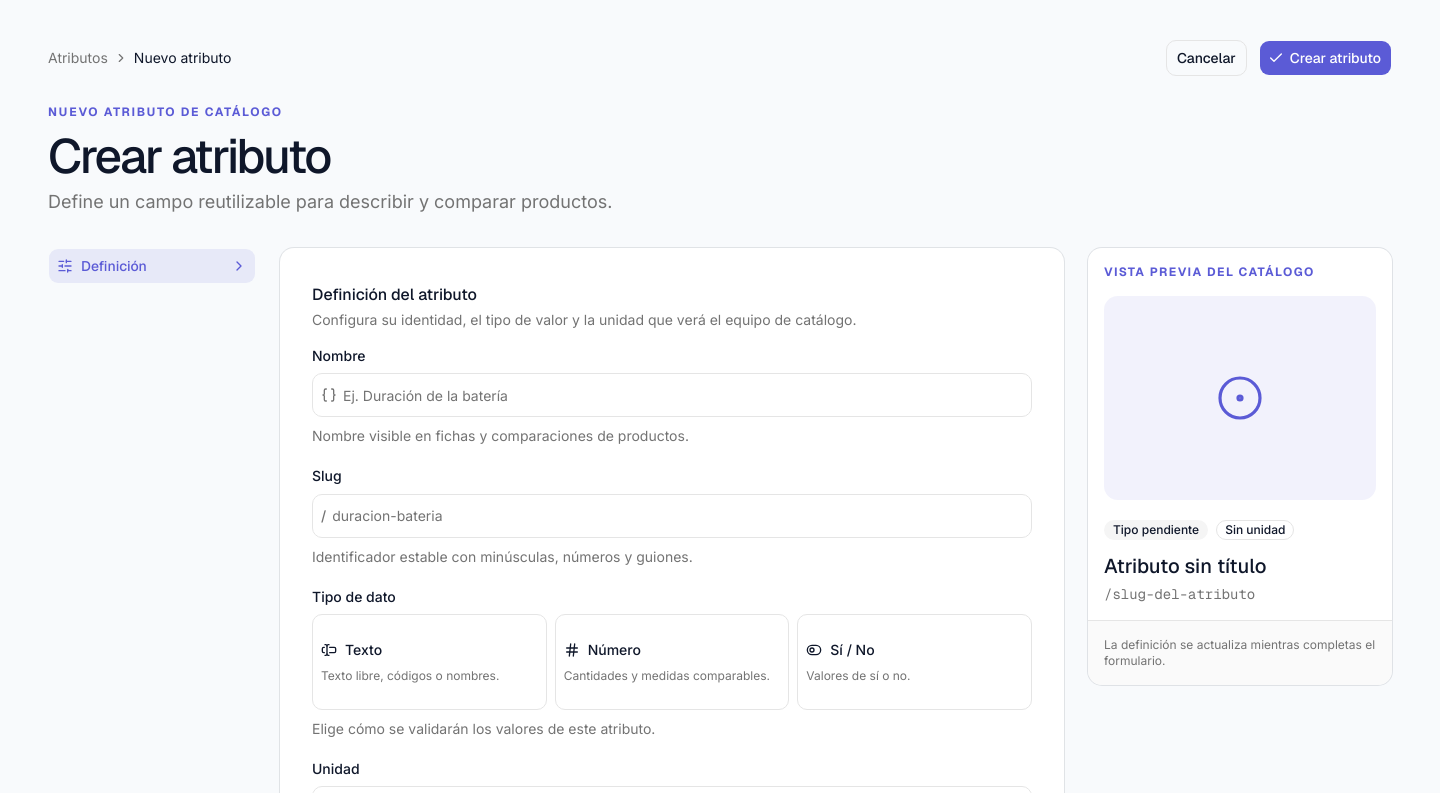
Test: AttributeForm › shows a recoverable error and preserves create values when the action rejects
Type "Peso" into the field labelled "Nombre" at {"x": 684, "y": 395}, box left=337, top=379, right=1031, bottom=411
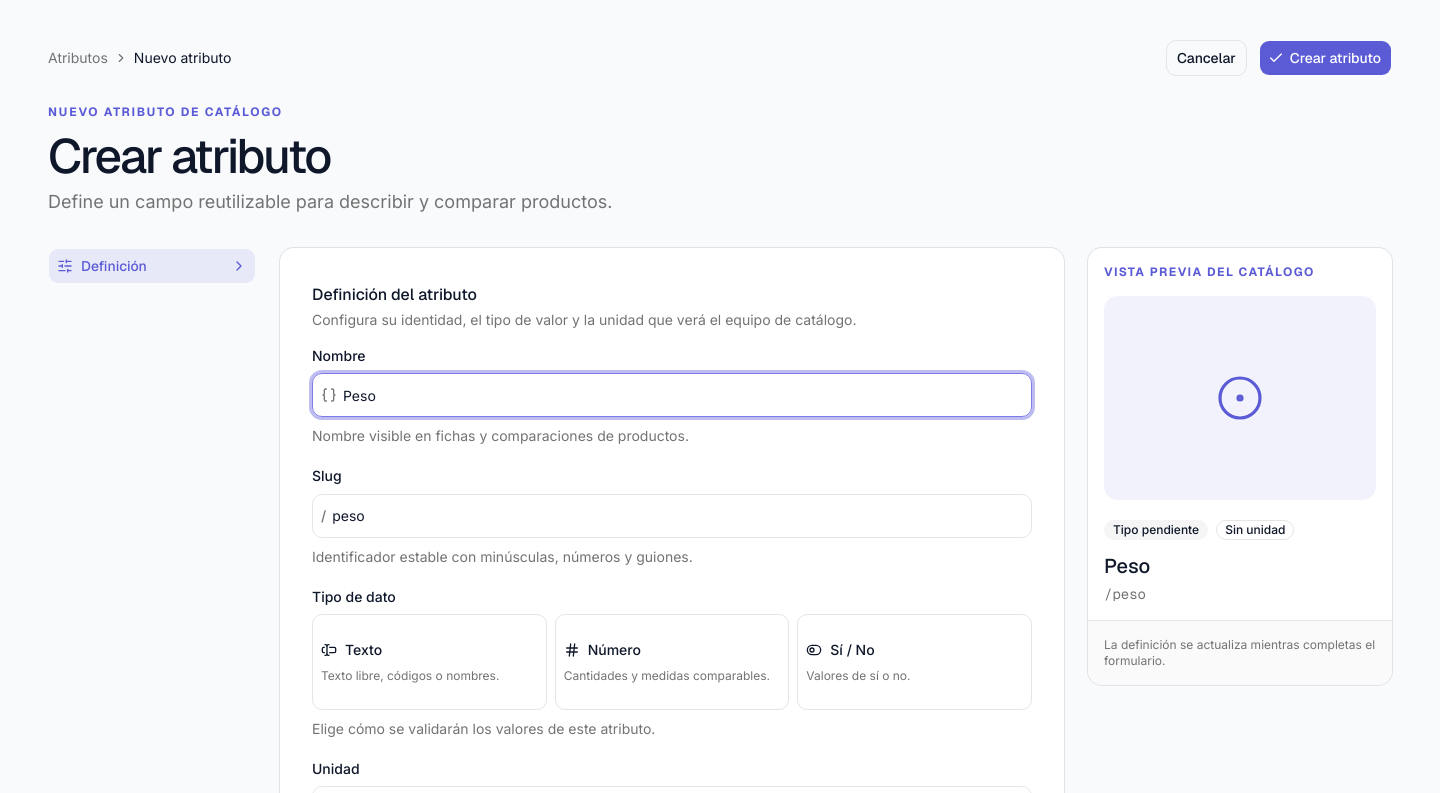
Click the button "Número Cantidades y medidas comparables." at {"x": 672, "y": 662}, box left=555, top=614, right=789, bottom=710
(page scrolled)
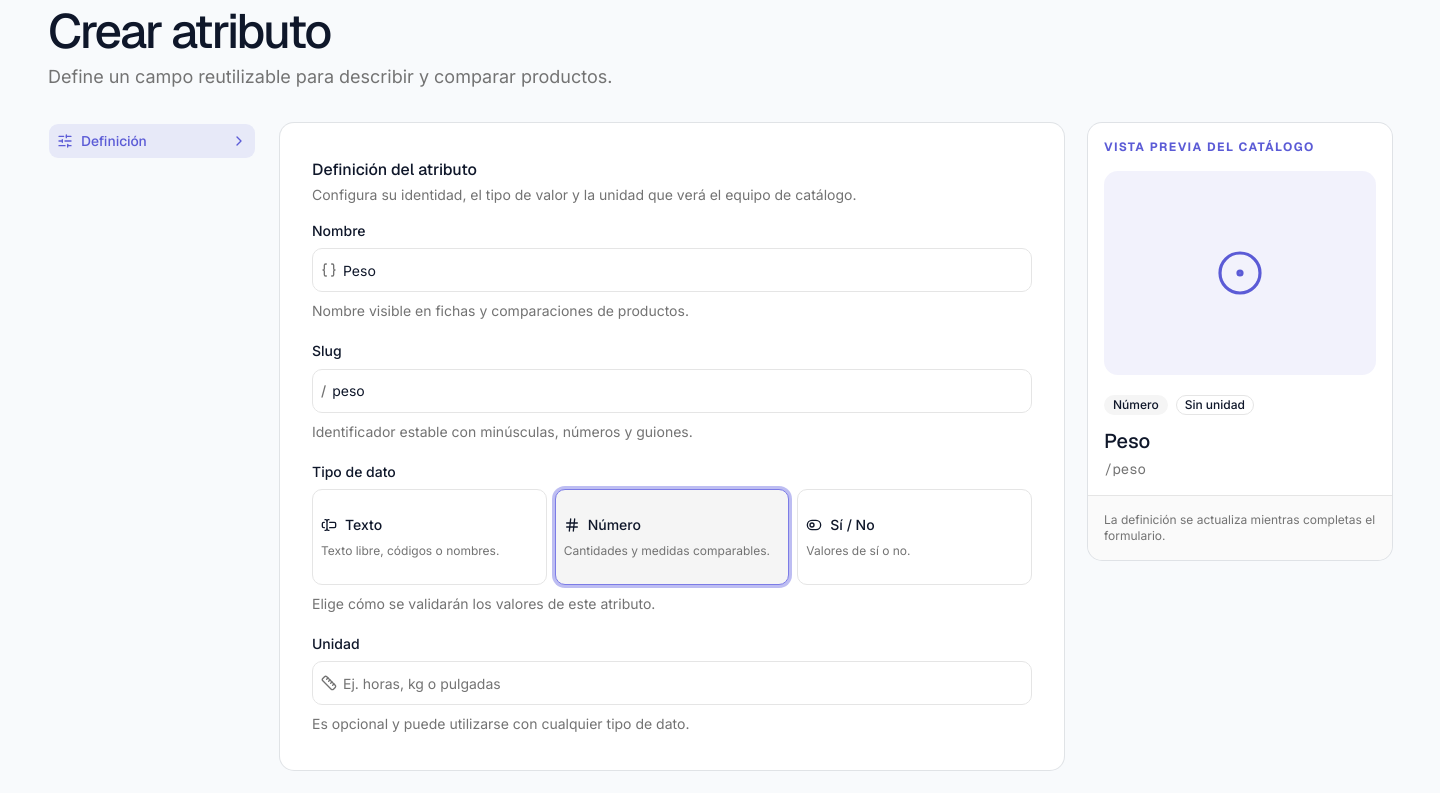
Type "kg" into the field labelled "Unidad" at {"x": 684, "y": 683}, box left=337, top=667, right=1031, bottom=699
(page scrolled)
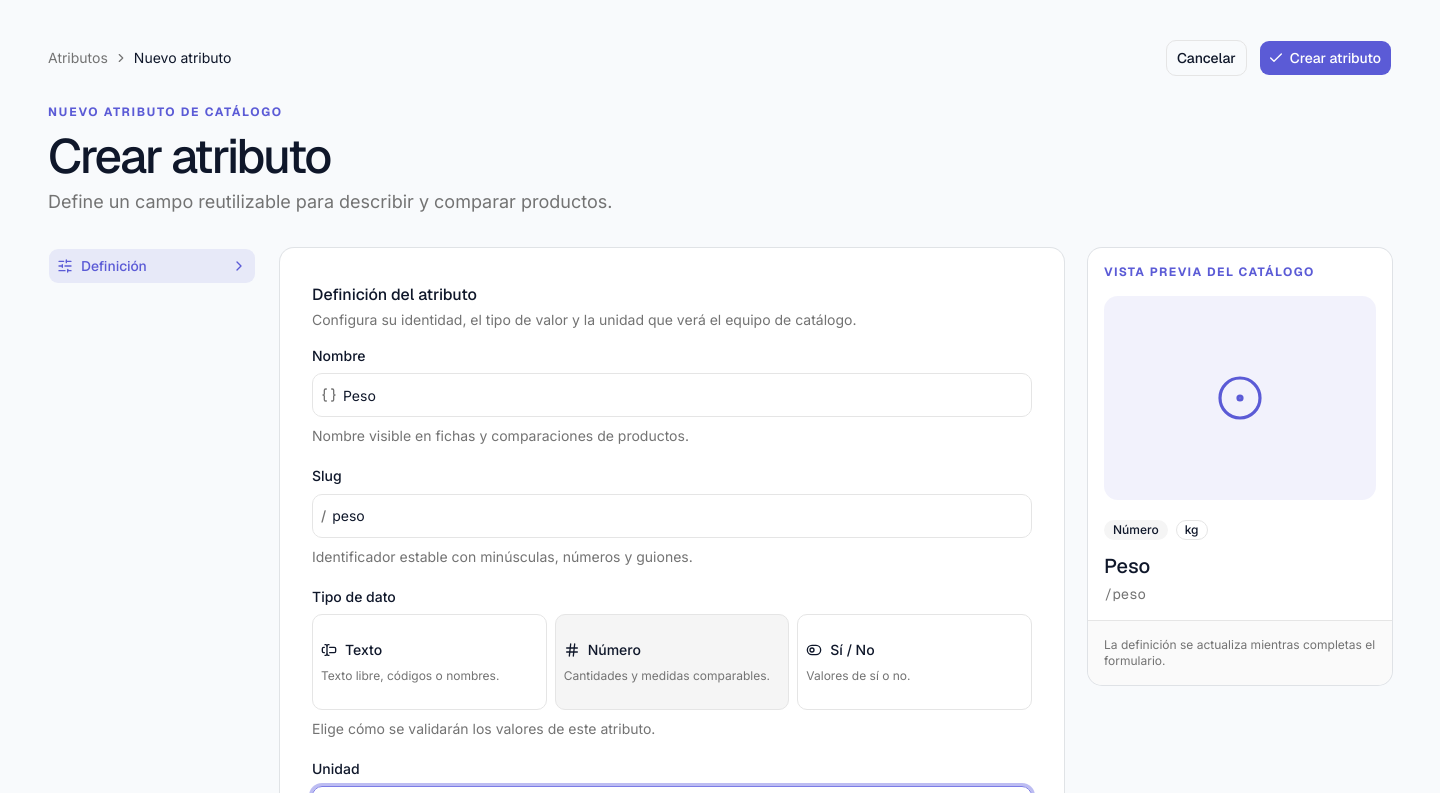
Click the button "Crear atributo" at {"x": 1325, "y": 58}, box left=1259, top=40, right=1392, bottom=76
(page scrolled)
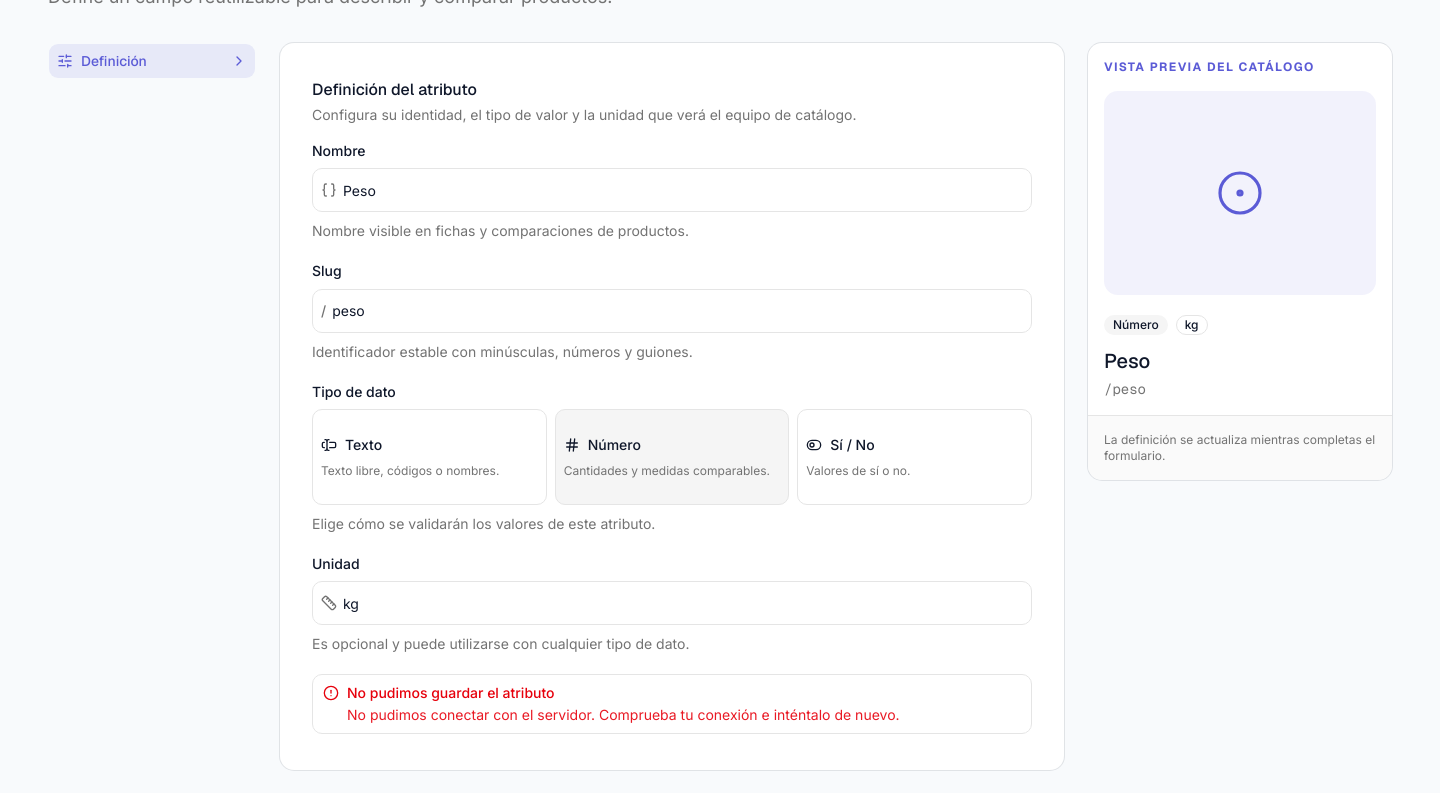
Expected: the field labelled "Slug" holds "peso", left=326, top=294, right=1031, bottom=326
Expected: the text "No pudimos conectar con el servidor. Comprueba tu conexión e inténtalo de nuevo." is shown, left=347, top=706, right=900, bottom=723
